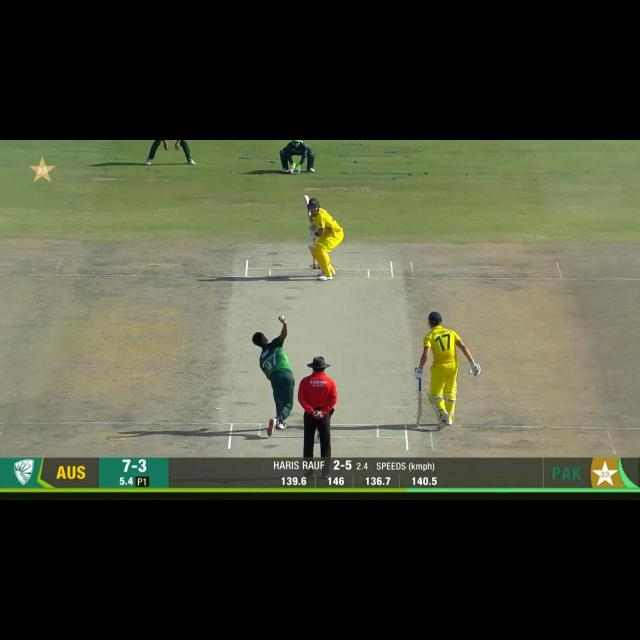bat: (302, 194, 317, 226), (414, 389, 424, 427)
toe: (302, 194, 311, 205), (414, 419, 423, 429)
